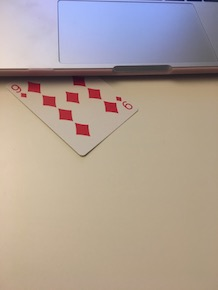NineOfDiamonds: (4, 68, 141, 156)
